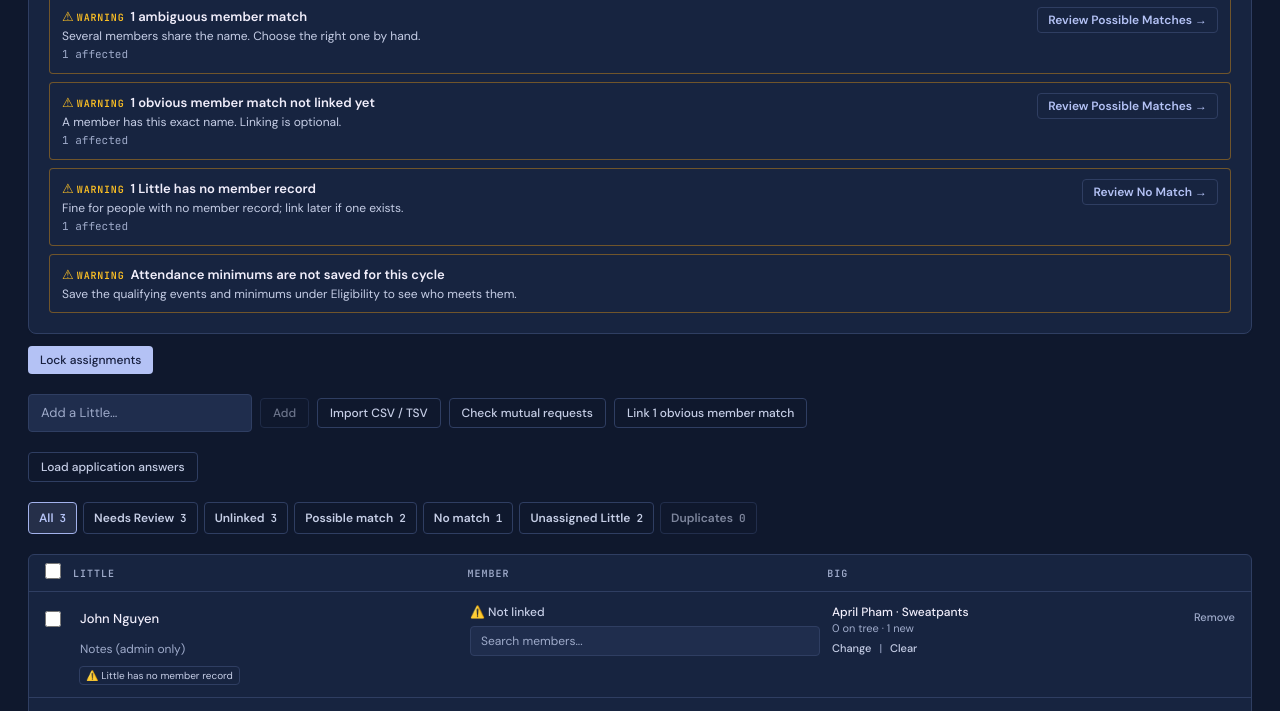
Test: filters, bulk actions and activity › shows the year, the progress header, and an obvious next step after locking
(page scrolled)
Click the button "Lock assignments" at (91, 360), box [28,346,154,374]
(page scrolled)
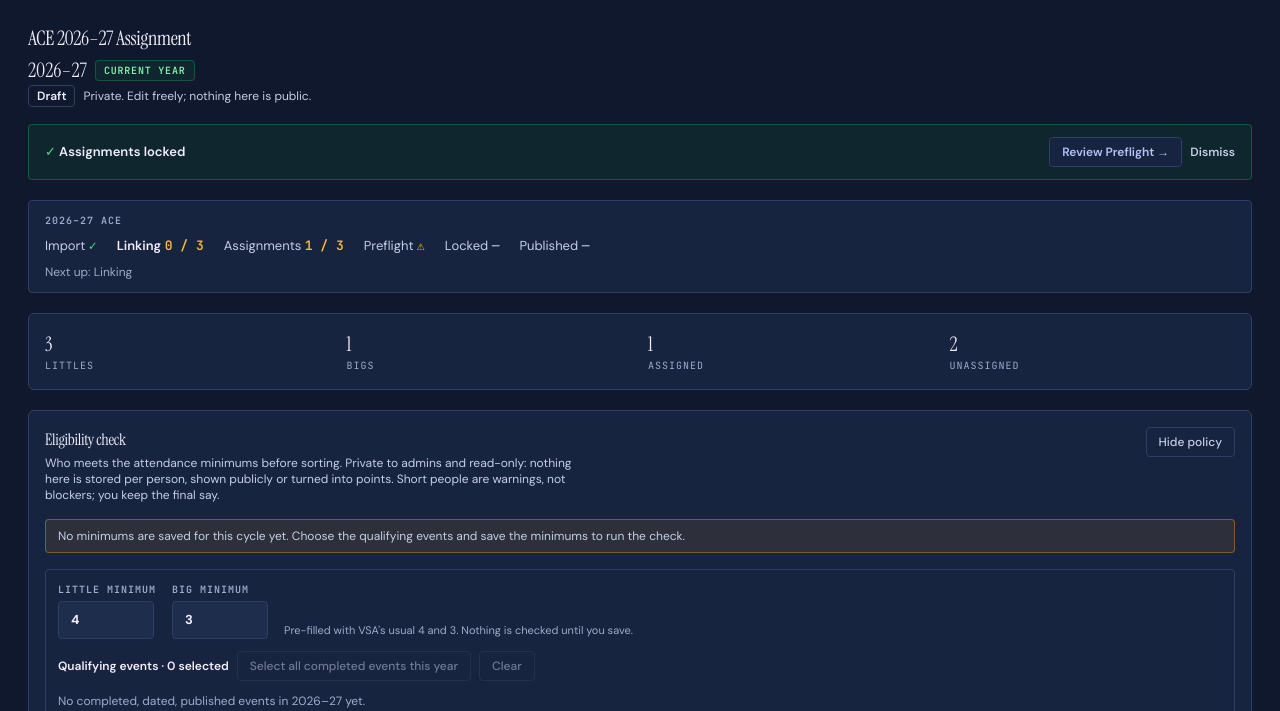
Now the text "Assignments locked" is shown, box [59,143,185,160]
